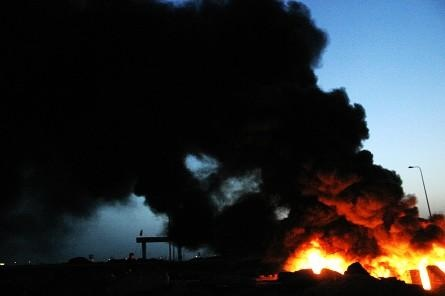fire: (282, 236, 445, 291)
